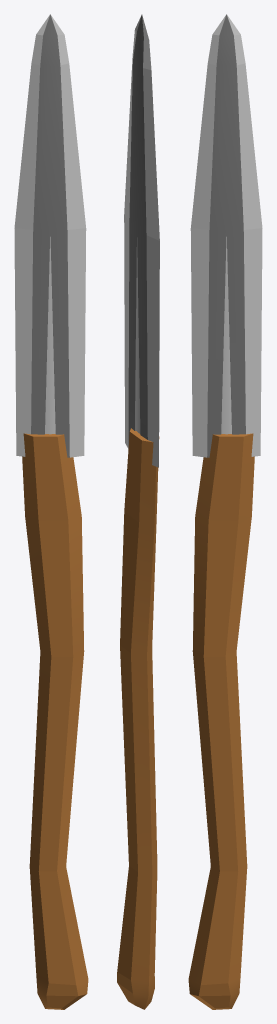
The model's file is Axe21.glb.
3 views of the same model, side by side, from view 1: azimuth 90°, elevation 25°; view 2: azimuth 210°, elevation 25°; view 3: azimuth 270°, elevation 25° (orthographic).
Parts seen in each view (by area): view 1: weapon_generator; view 2: weapon_generator; view 3: weapon_generator.
Part boxes in pixels (box(x1,y1,x2,y2)): weapon_generator: box(14, 14, 88, 1009); weapon_generator: box(117, 14, 159, 1009); weapon_generator: box(188, 14, 262, 1009).
Size of the model in its own units: 0.0331 by 1.32 by 0.0889.
